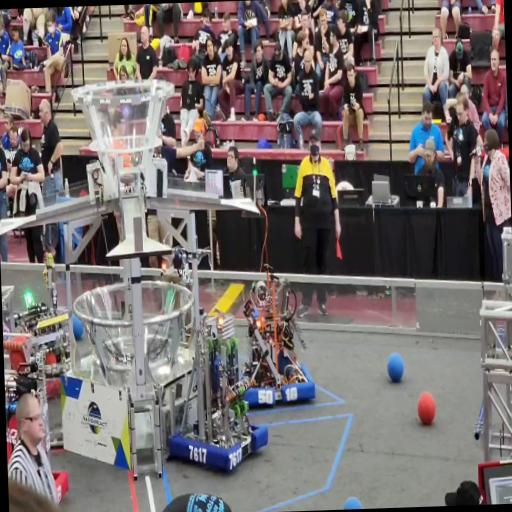robot: (164, 326, 270, 480), (240, 260, 316, 403), (1, 278, 75, 394), (4, 340, 53, 456), (8, 458, 64, 494)
